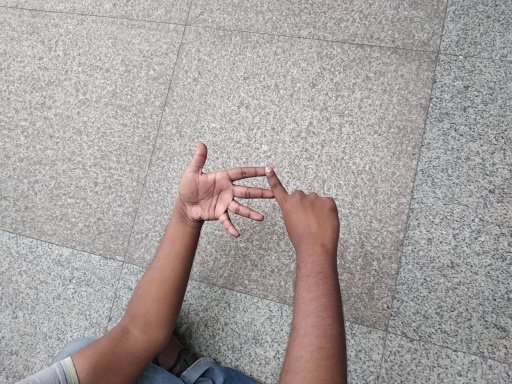o: (171, 139, 333, 247)
